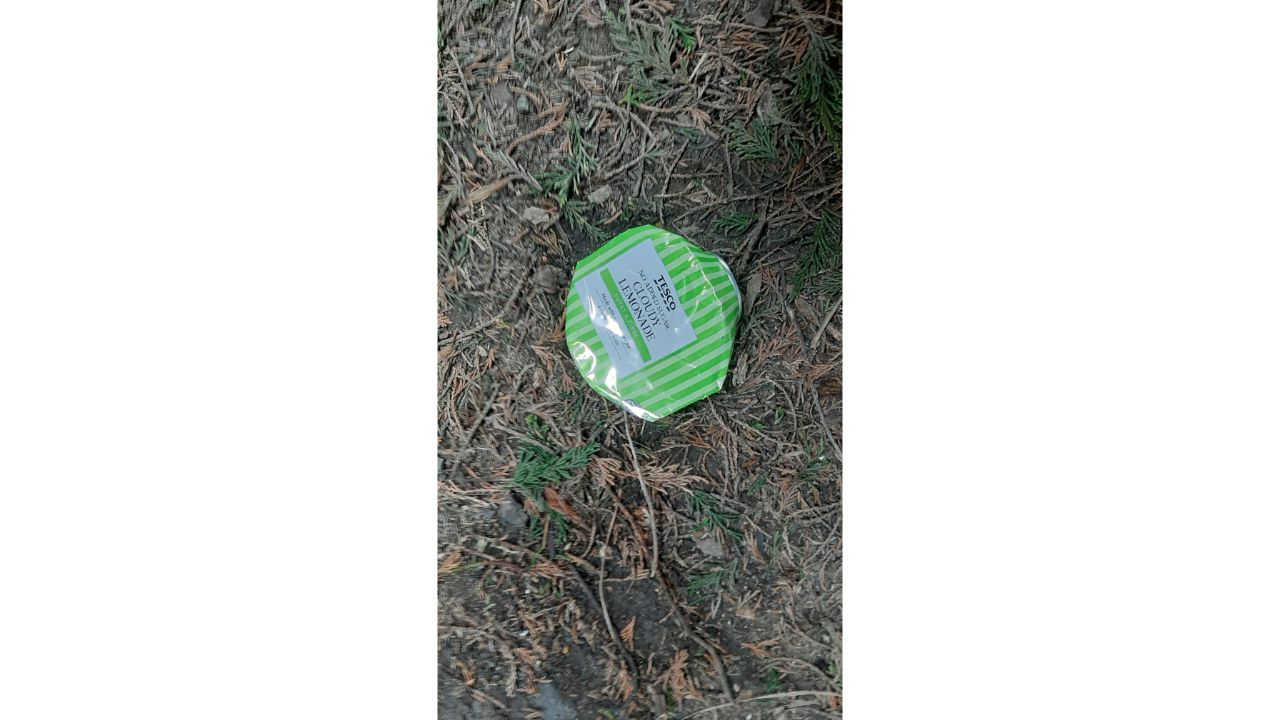Can: (562, 224, 751, 424)
